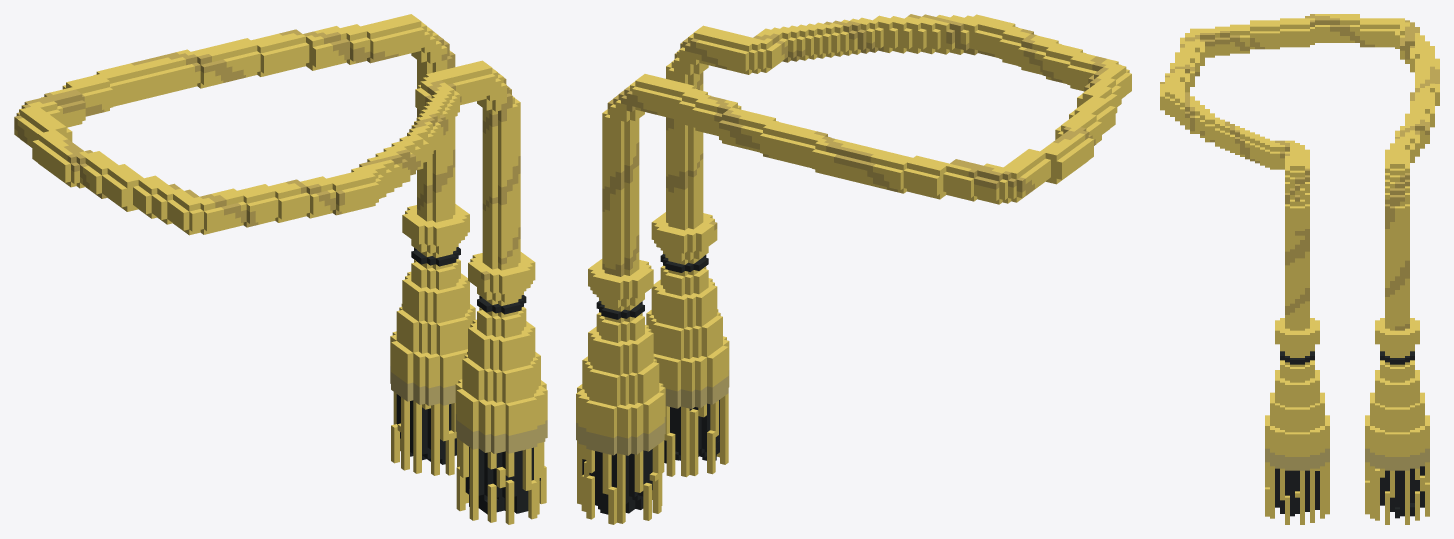
Rendered from ceinture.obj.
3 views of the same model, side by side, from view 1: azimuth 30°, elevation 25°; view 2: azimuth 150°, elevation 25°; view 3: azimuth 270°, elevation 25° (orthographic). The views are drawn at different scales.
Bounding box in the file's own units: 8.2 × 7.5 × 5.6.
1 material, 1 textured.
